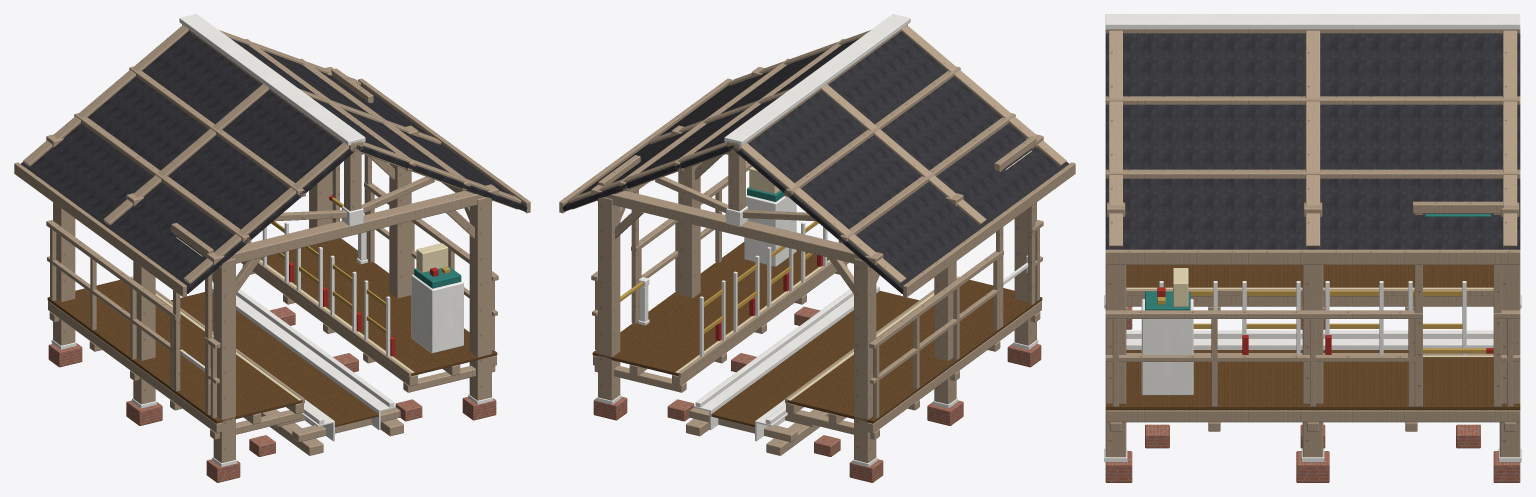
The model's file is station.glb.
The picture shows the model from 3 angles, left to right: view 1: azimuth 30°, elevation 25°; view 2: azimuth 150°, elevation 25°; view 3: azimuth 270°, elevation 25°; orthographic projection. The views are drawn at different scales.
Visible parts, largest first — view 1: Static_StationRoot_timber.001, Static_StationRoot_roof, Static_StationRoot_boards.001, Static_StationRoot_metal, Static_StationRoot_timber, Static_StationRoot_brick, Static_StationRoot_cream, Static_StationRoot_brass, Static_StationRoot_paint_teal; view 2: Static_StationRoot_timber.001, Static_StationRoot_roof, Static_StationRoot_boards.001, Static_StationRoot_metal, Static_StationRoot_timber, Static_StationRoot_brick, Static_StationRoot_cream, Static_StationRoot_brass; view 3: Static_StationRoot_roof, Static_StationRoot_timber.001, Static_StationRoot_boards.001, Static_StationRoot_metal, Static_StationRoot_timber, Static_StationRoot_brick, Static_StationRoot_brass, Static_StationRoot_cream, Static_StationRoot_paint_teal.
Boxes of the visible parts, box(x1,y1,x2,y2) form: Static_StationRoot_timber.001: box(14, 24, 530, 462); Static_StationRoot_roof: box(21, 31, 527, 293); Static_StationRoot_boards.001: box(47, 238, 497, 426); Static_StationRoot_metal: box(51, 14, 493, 467); Static_StationRoot_timber: box(46, 68, 498, 455); Static_StationRoot_brick: box(48, 306, 496, 482); Static_StationRoot_cream: box(130, 237, 448, 400); Static_StationRoot_brass: box(271, 221, 450, 333); Static_StationRoot_paint_teal: box(414, 266, 461, 288); Static_StationRoot_timber.001: box(559, 24, 1075, 462); Static_StationRoot_roof: box(562, 31, 1068, 293); Static_StationRoot_boards.001: box(592, 242, 1042, 426); Static_StationRoot_metal: box(596, 14, 1038, 467); Static_StationRoot_timber: box(591, 136, 1043, 455); Static_StationRoot_brick: box(593, 306, 1041, 482); Static_StationRoot_cream: box(675, 150, 1031, 400); Static_StationRoot_brass: box(704, 221, 818, 333); Static_StationRoot_roof: box(1105, 33, 1520, 249); Static_StationRoot_timber.001: box(1105, 29, 1520, 457); Static_StationRoot_boards.001: box(1105, 265, 1520, 410); Static_StationRoot_metal: box(1104, 14, 1521, 462); Static_StationRoot_timber: box(1105, 201, 1520, 406); Static_StationRoot_brick: box(1105, 306, 1520, 482); Static_StationRoot_brass: box(1157, 290, 1462, 328); Static_StationRoot_cream: box(1126, 268, 1493, 357); Static_StationRoot_paint_teal: box(1145, 214, 1491, 310).
Size of the model in its own units: 4.76 by 4.05 by 4.02.
10 materials, 6 textured.
